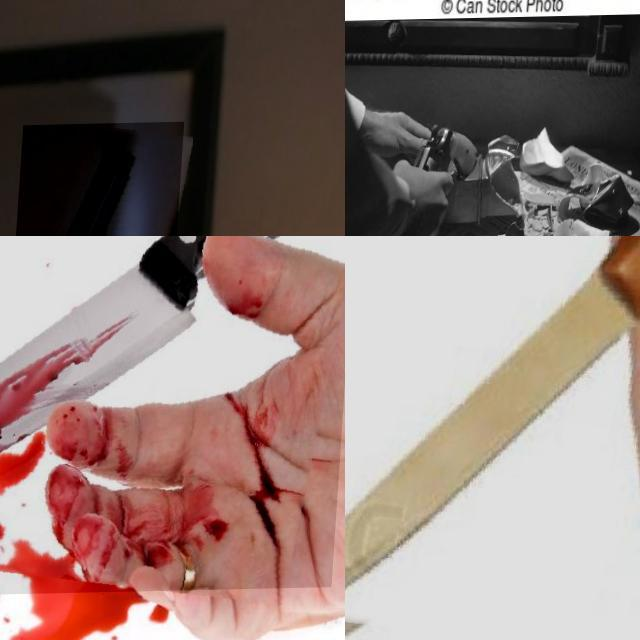-: (0, 236, 345, 599), (345, 236, 640, 640)
gun-knife-thesis - v11 Yolov5 augmented: (8, 123, 186, 236), (345, 121, 491, 236), (395, 120, 488, 236), (345, 0, 434, 102), (416, 0, 517, 58)
